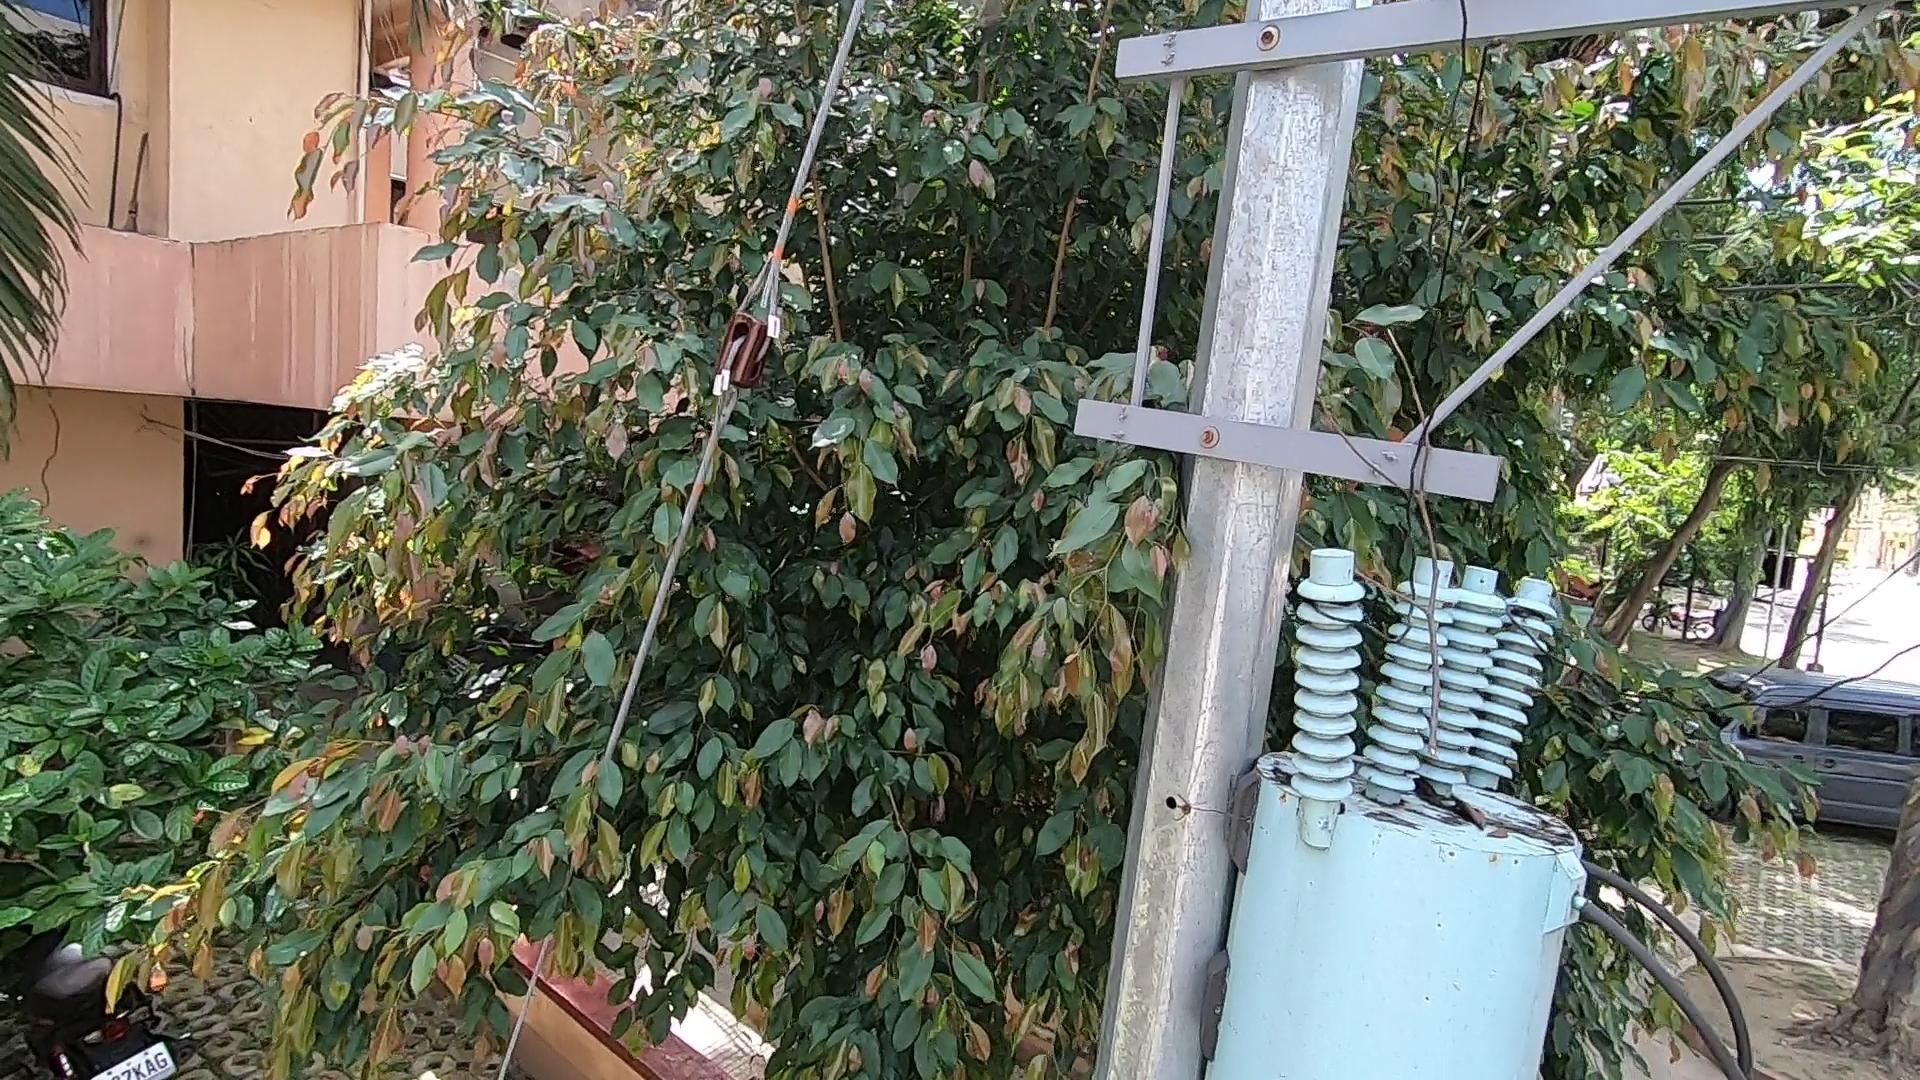leaf: (1411, 769, 1495, 839)
tree branch: (1342, 318, 1472, 766)
